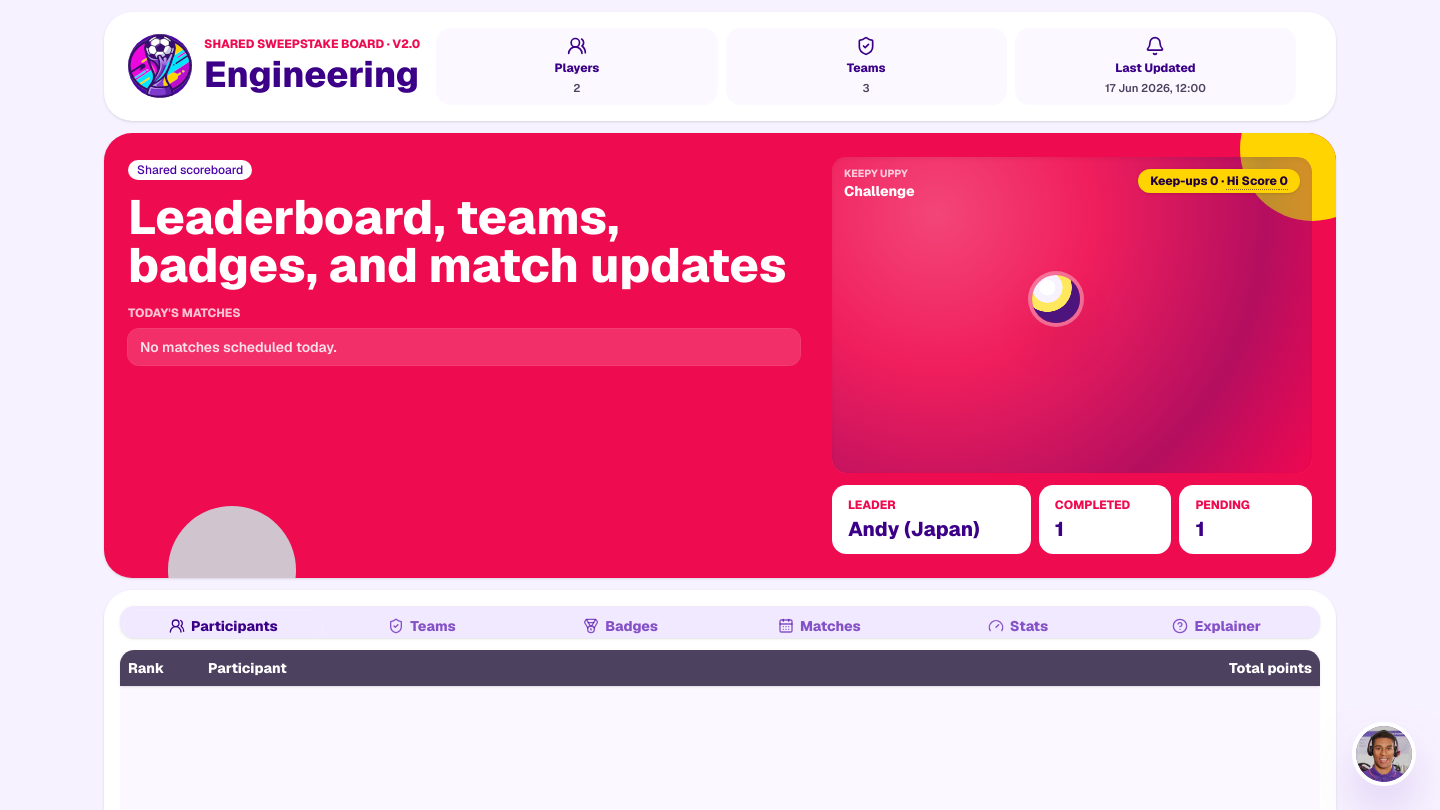
Scenario: AlternativeBoard › asks for a player name when a completed streak beats the high score
This screenshot has width=1440, height=810.
Press the mouse on the button named "Keep Andy's ball up" at point(1056, 299), box [1032,275,1080,323]
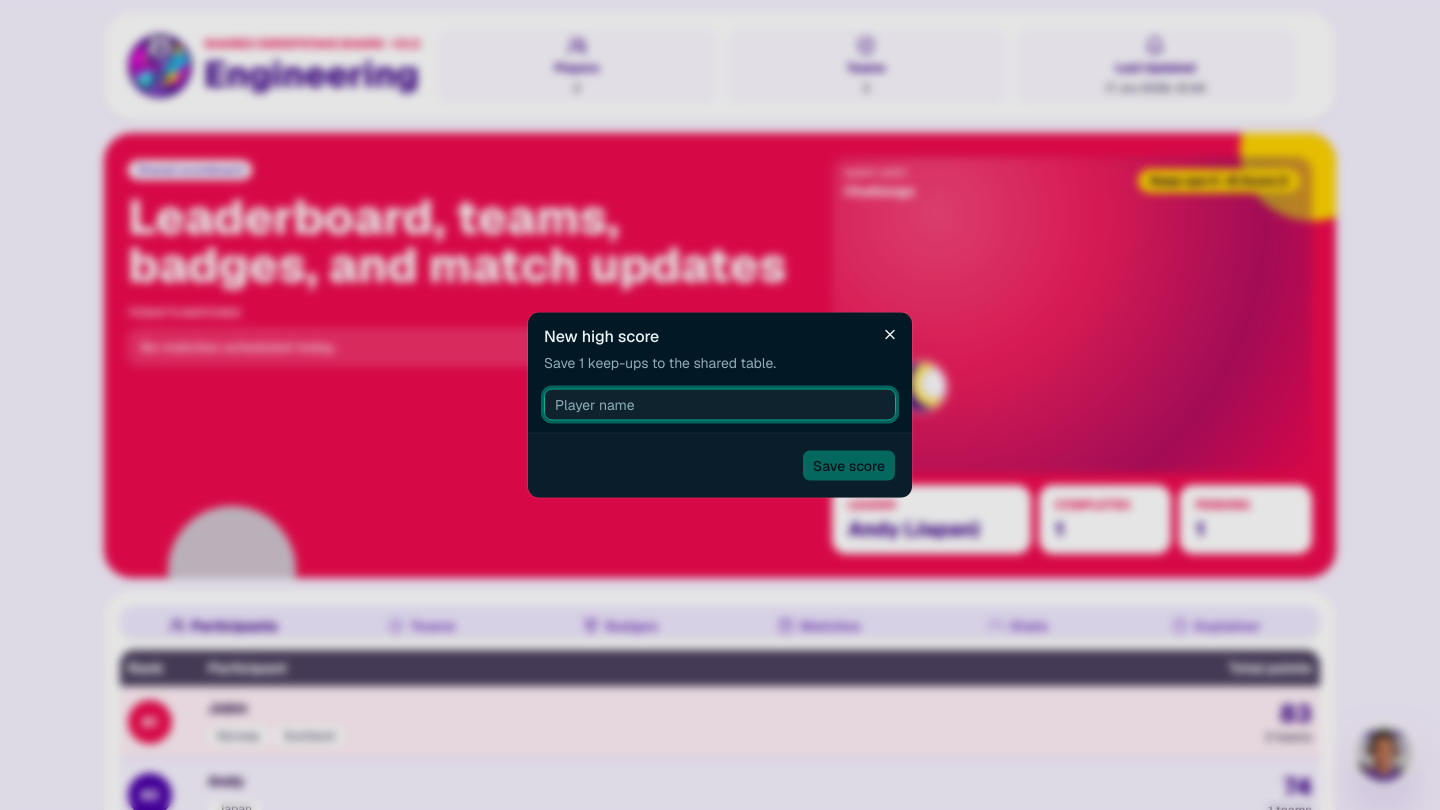
Result: the dialog "New high score" is shown at [528,312,912,498]
Result: the field labelled "Player name" is shown at [544,388,896,420]
